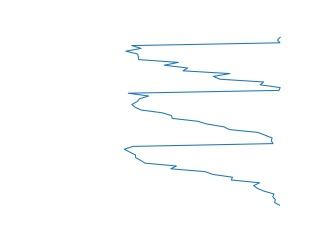distributaryMouthBar: (120, 34, 286, 209)
